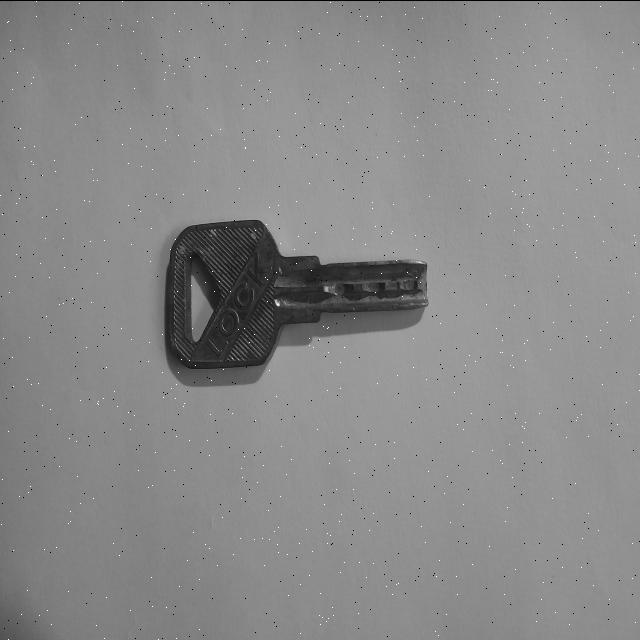key: (166, 219, 428, 367)
